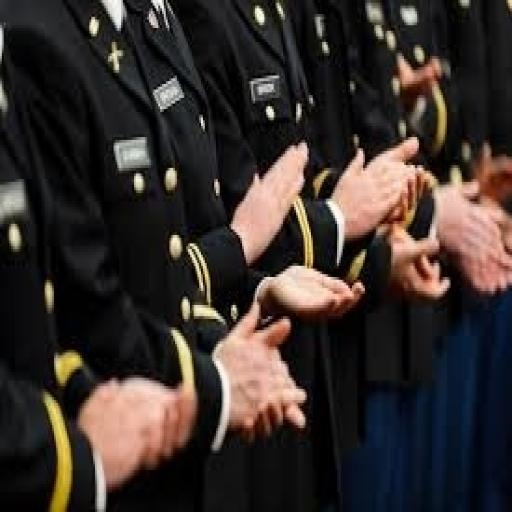clapping: (26, 266, 302, 512), (184, 69, 450, 310), (152, 79, 340, 398), (267, 139, 470, 417), (0, 302, 203, 512), (369, 69, 512, 339)
